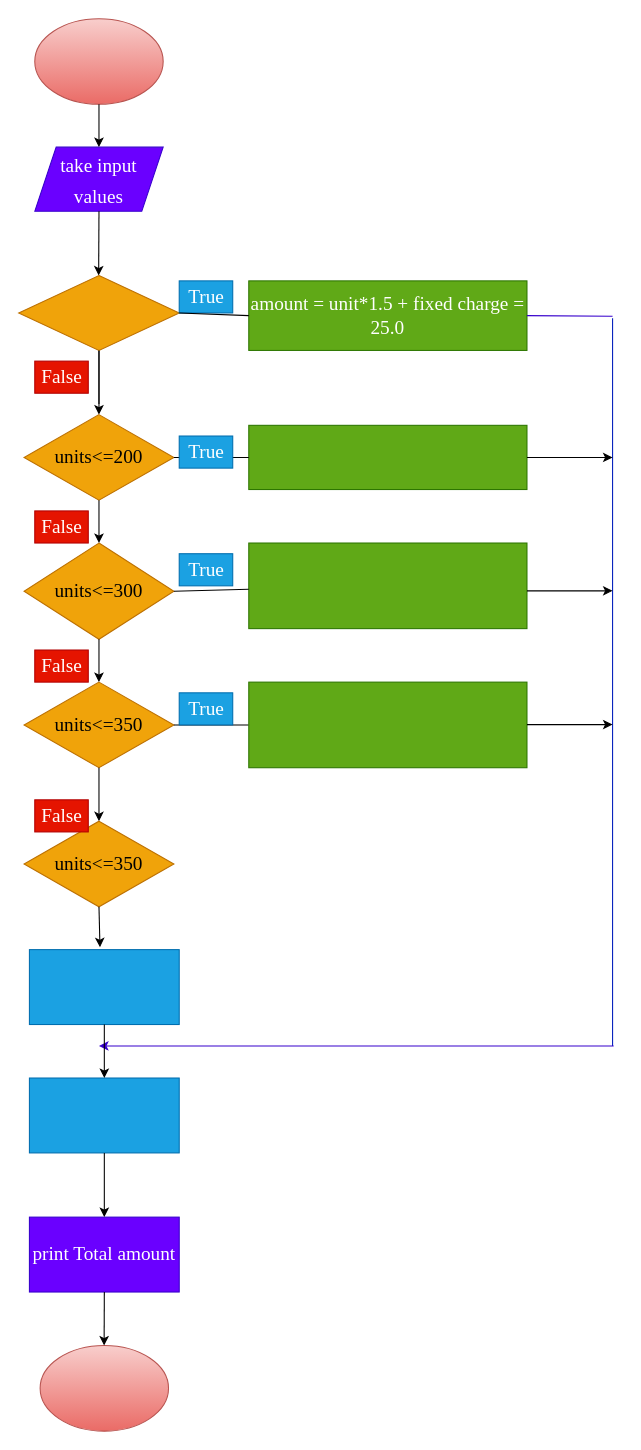
The diagram is 641 pixels wide and 1450 high, and some of its shapes have lost their labels. The box of each missing label's shape, as (x1, y1, x2, y2) in pixels:
amount = (100*1.5)+(100)*2.5+(300-200)*4+(units-300)*5 +fixed charge = 100.0: (248, 681, 527, 768)
amount = (100*1.5)+(100)*2.5+(units-200)*4 +fixed charge = 75.0: (248, 542, 527, 629)
amount = 0 + fixed charge = 1500: (28, 949, 179, 1025)
amount = 100*1.5+(units-100)*2.5 + fixed charge = 50.0: (248, 424, 527, 490)
End: (39, 1344, 169, 1431)
start: (34, 18, 163, 104)
total = amount +fixed charge: (28, 1077, 179, 1153)
units<=100: (18, 274, 179, 350)
